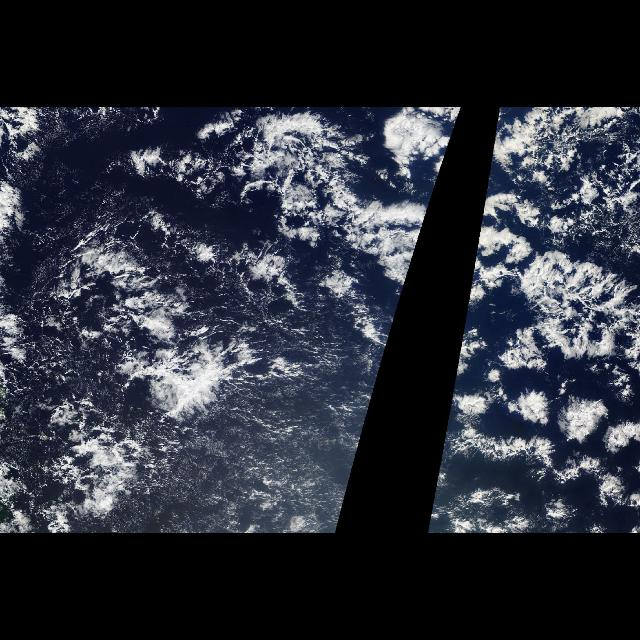Fish: (17, 114, 459, 524), (451, 114, 639, 384)
Flower: (426, 109, 640, 533), (376, 109, 462, 387)
Gravel: (1, 220, 352, 530)
